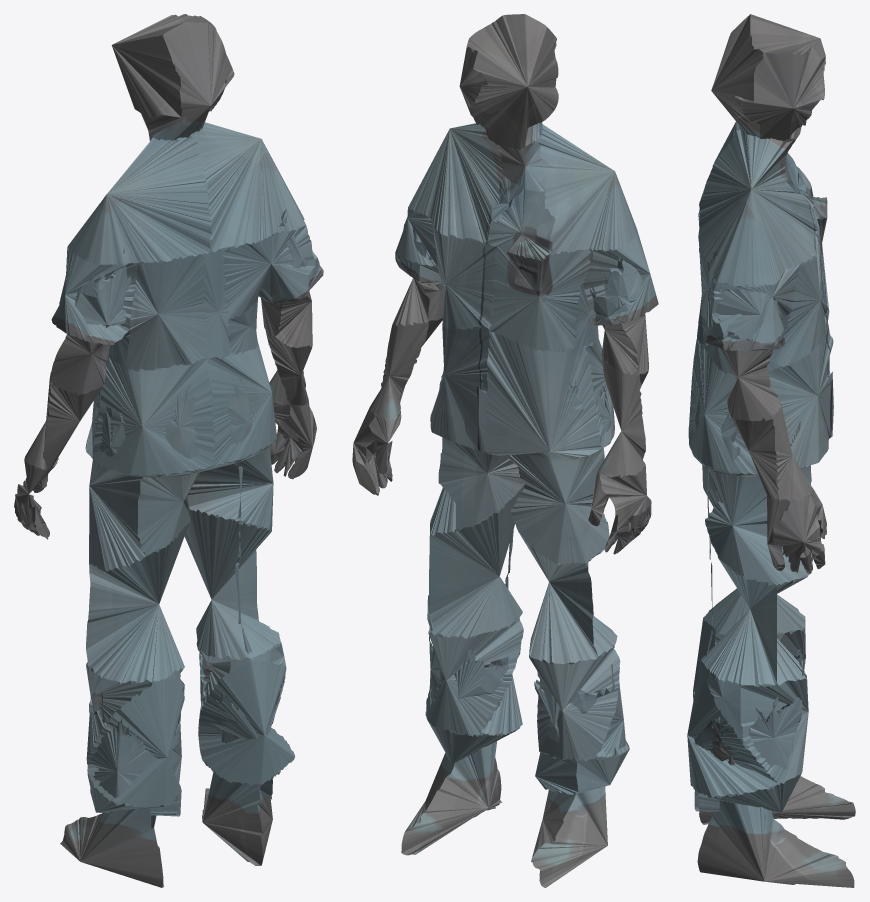
File: patient.glb
3 views of the same model, side by side, from view 1: azimuth 30°, elevation 25°; view 2: azimuth 150°, elevation 25°; view 3: azimuth 270°, elevation 25° (orthographic). The views are drawn at different scales.
Visible parts, largest first — view 1: geometry_0; view 2: geometry_0; view 3: geometry_0.
Boxes of the visible parts, left/top/right/bottom form: geometry_0: left=14, top=14, right=323, bottom=887; geometry_0: left=352, top=14, right=658, bottom=887; geometry_0: left=687, top=14, right=855, bottom=887.
Size of the model in its own units: 0.633 by 1.75 by 0.3192.
1 material, 1 textured.
